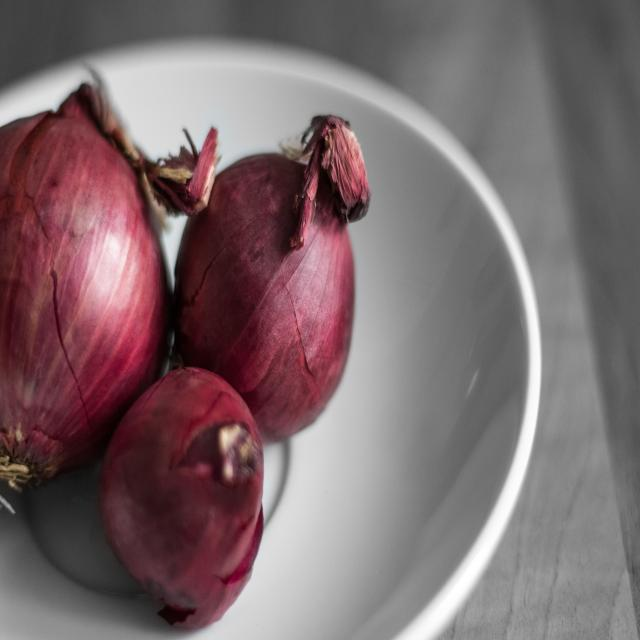onion: (0, 80, 173, 494), (174, 119, 369, 442), (97, 365, 266, 624)
